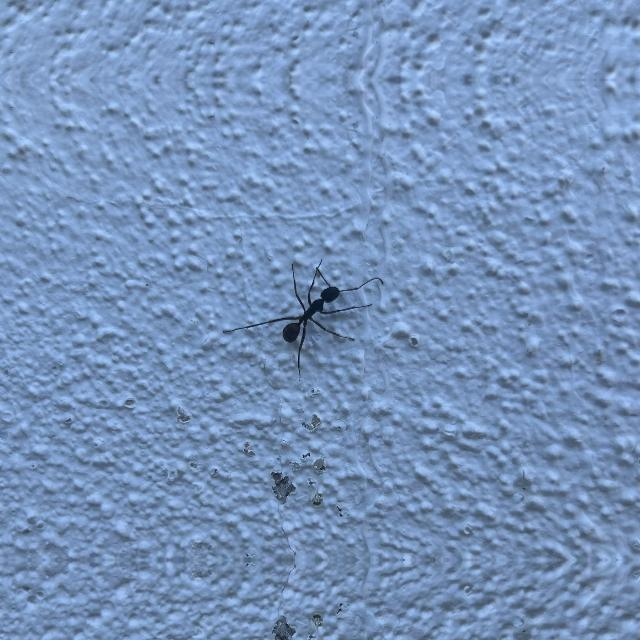Camponotus: (262, 266, 370, 356)
